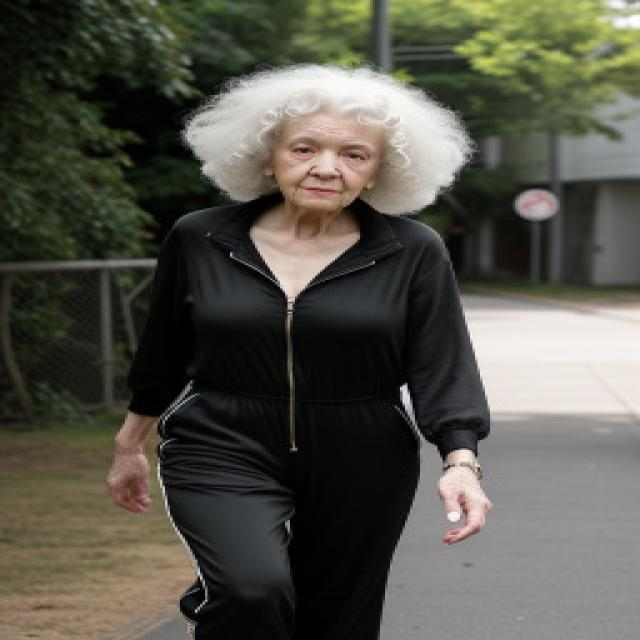Ai human 2: (105, 50, 525, 640)
